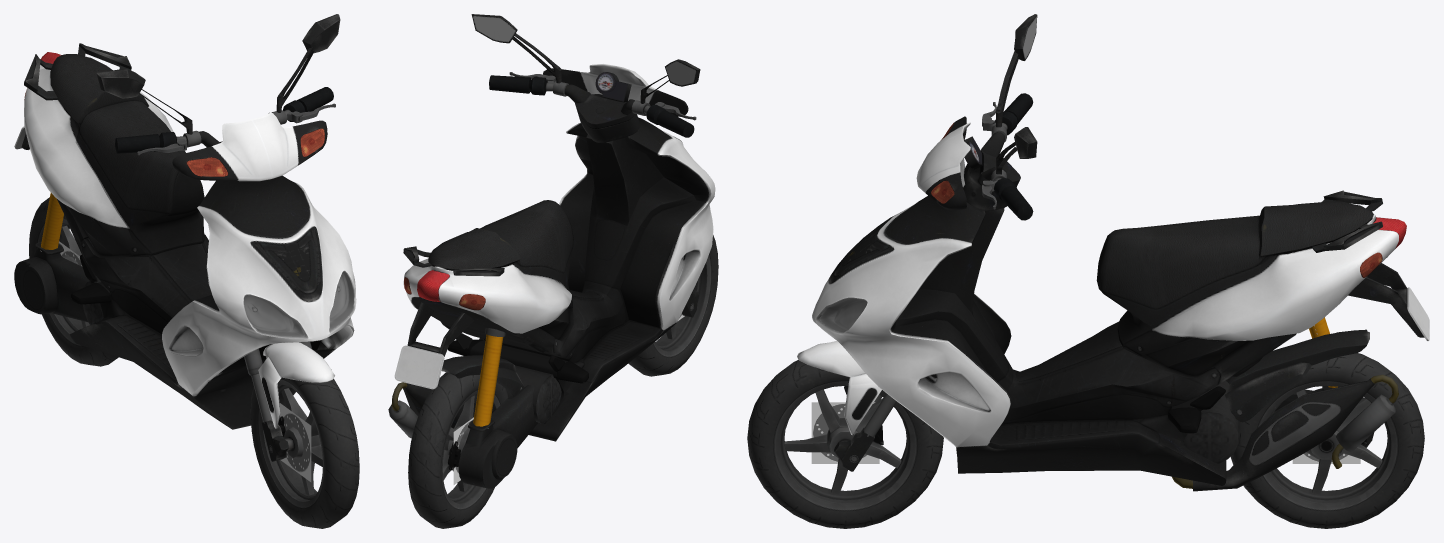
The model's file is Scooter.FBX.
3 renders of one model, left to right at view 1: azimuth 30°, elevation 25°; view 2: azimuth 150°, elevation 25°; view 3: azimuth 270°, elevation 25°, orthographic. The views are drawn at different scales.
Parts seen in each view (by area): view 1: Scooter_LOD0, Wheel_F_LOD0, Wheel_B_LOD0; view 2: Scooter_LOD0, Wheel_B_LOD0, Wheel_F_LOD0; view 3: Scooter_LOD0, Wheel_F_LOD0, Wheel_B_LOD0.
Boxes of the visible parts, box(x1,y1,x2,y2) form: Scooter_LOD0: box(14, 14, 356, 461); Wheel_F_LOD0: box(250, 377, 359, 528); Wheel_B_LOD0: box(29, 197, 118, 366); Scooter_LOD0: box(388, 14, 715, 488); Wheel_B_LOD0: box(408, 372, 508, 528); Wheel_F_LOD0: box(628, 235, 718, 376); Scooter_LOD0: box(797, 14, 1429, 491); Wheel_F_LOD0: box(747, 360, 943, 528); Wheel_B_LOD0: box(1230, 353, 1424, 528).
Size of what is drawn, in the model's own units: 0.7196 by 1.18 by 1.62.
